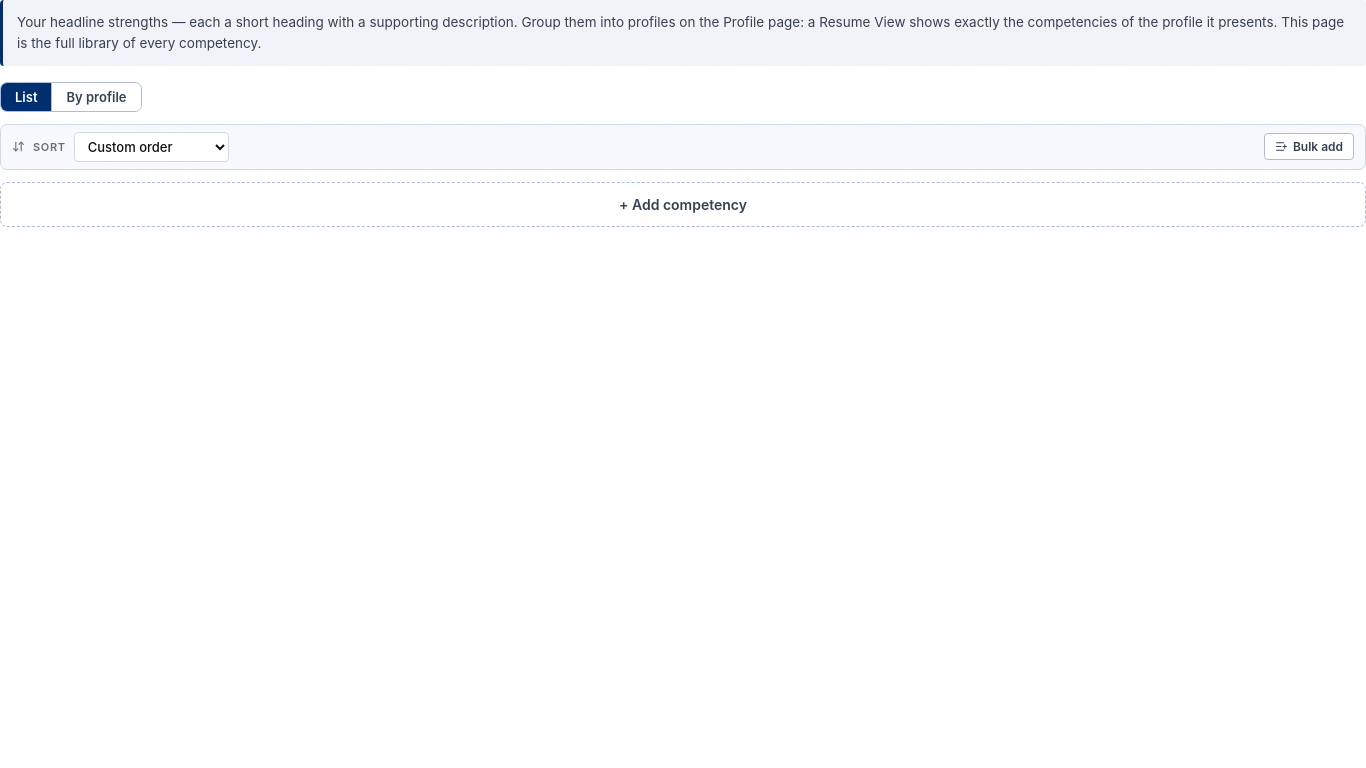
KeyCompetenciesEditor — by-profile grouping › opens a competency in a lightbox when a chip is clicked
The width and height of the screenshot is (1366, 768).
Click the button "By profile": (96, 97) [52,83,140,111]
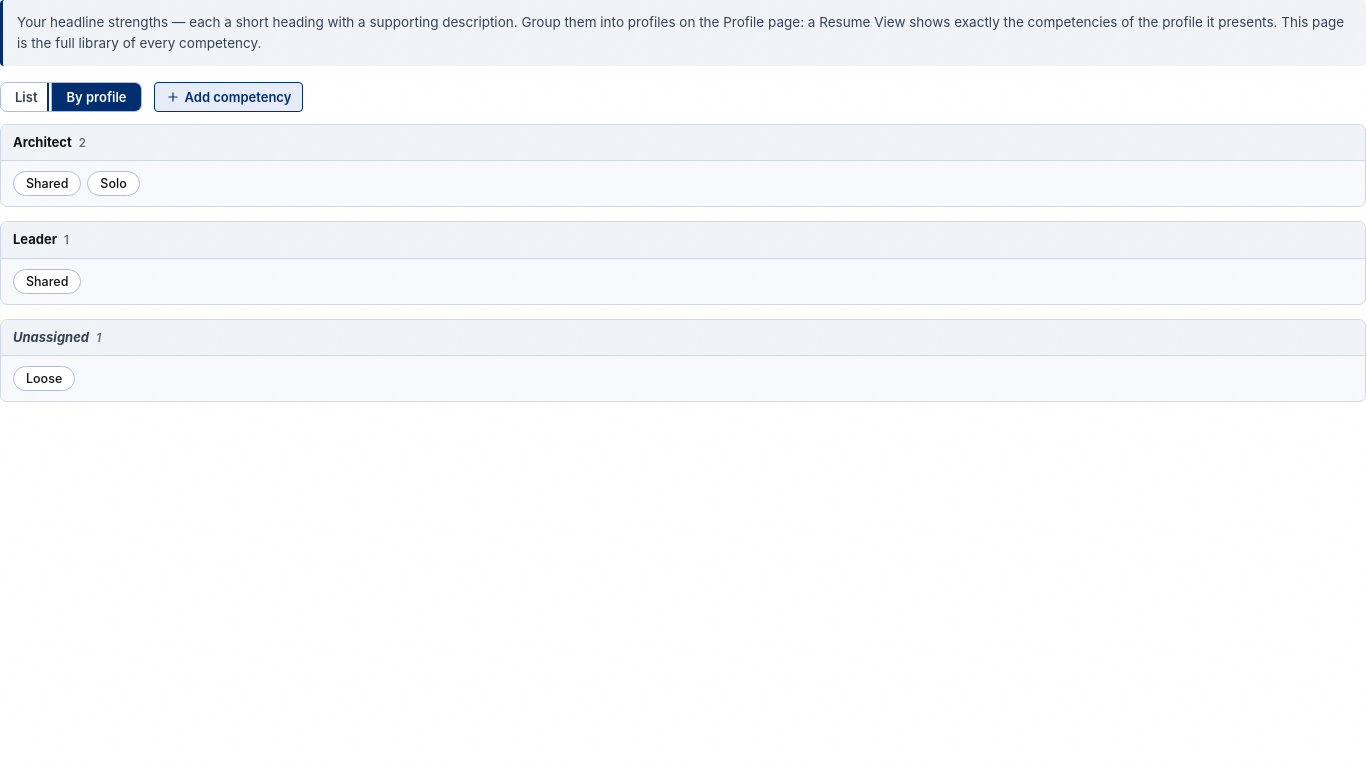
Click the button "Shared" below "Architect": (47, 184) [13,171,81,196]
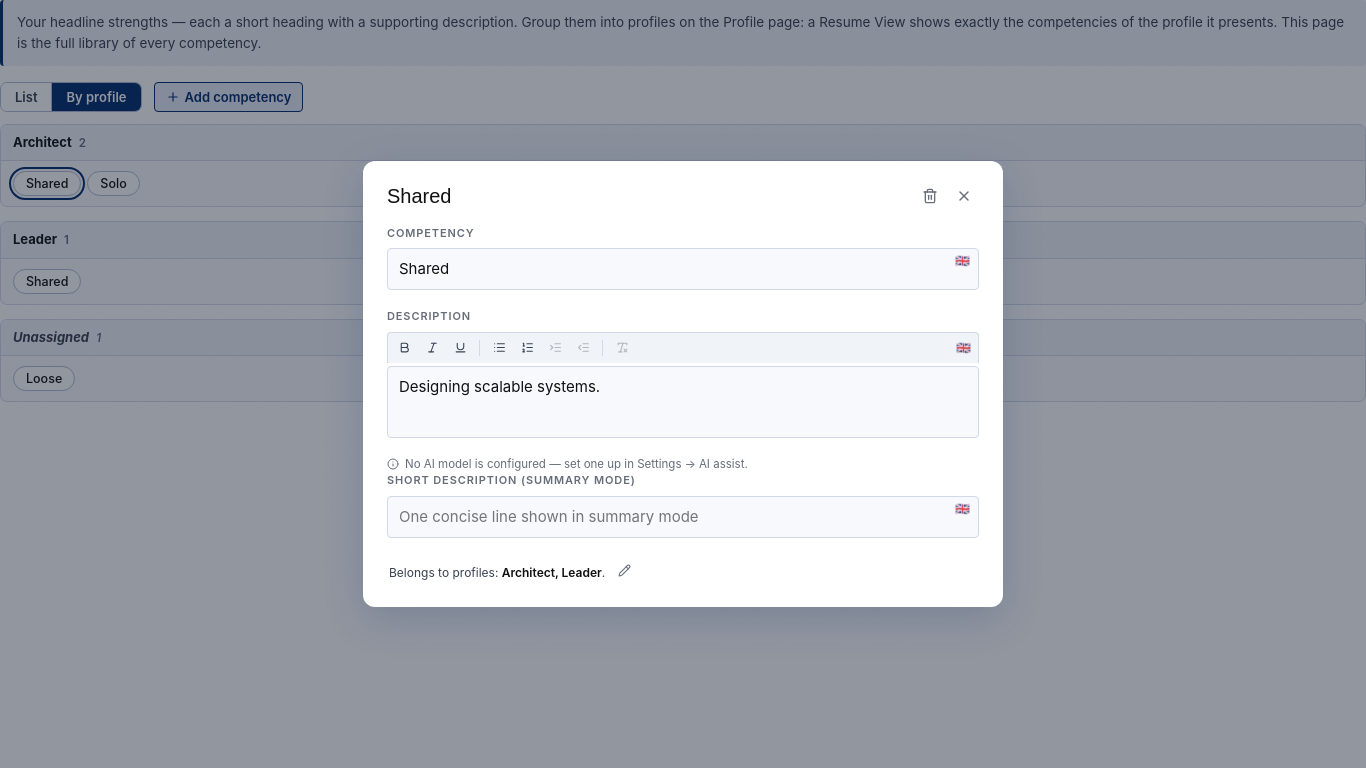
Now the dialog named "Edit competency" is shown, box [363,161,1003,607]
